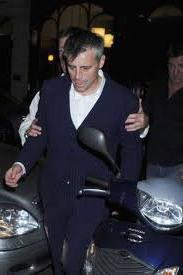Drunk: (68, 52, 98, 93)
